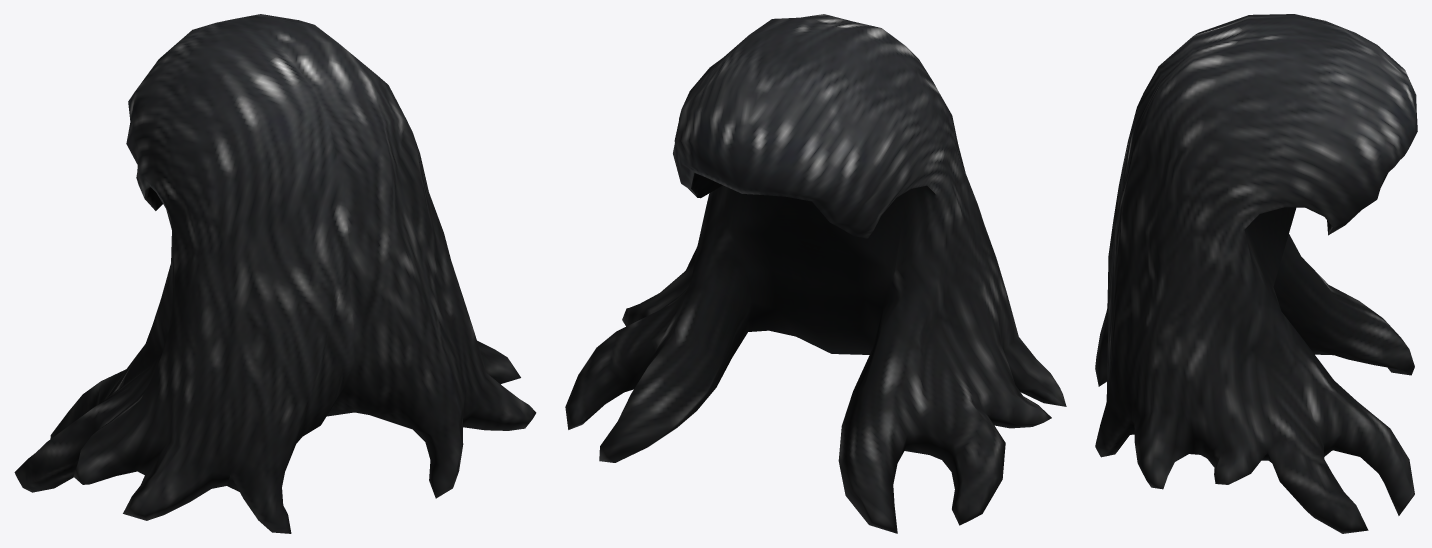
3 renders of one model, left to right at view 1: azimuth 30°, elevation 25°; view 2: azimuth 150°, elevation 25°; view 3: azimuth 270°, elevation 25°, orthographic. The views are drawn at different scales.
Parts seen in each view (by area): view 1: geometry_0; view 2: geometry_0; view 3: geometry_0.
Part boxes in pixels (left/top/right/bottom): geometry_0: left=14, top=14, right=536, bottom=533; geometry_0: left=565, top=14, right=1066, bottom=533; geometry_0: left=1095, top=14, right=1417, bottom=533.
Bounding box in the file's own units: 1.37 × 1.31 × 0.9234.
Materials: 1 (1 with a texture image).
